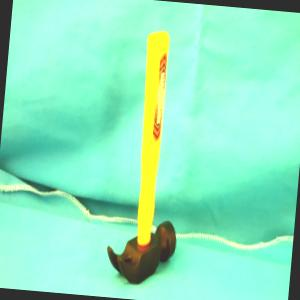martelo: (103, 28, 195, 288)
